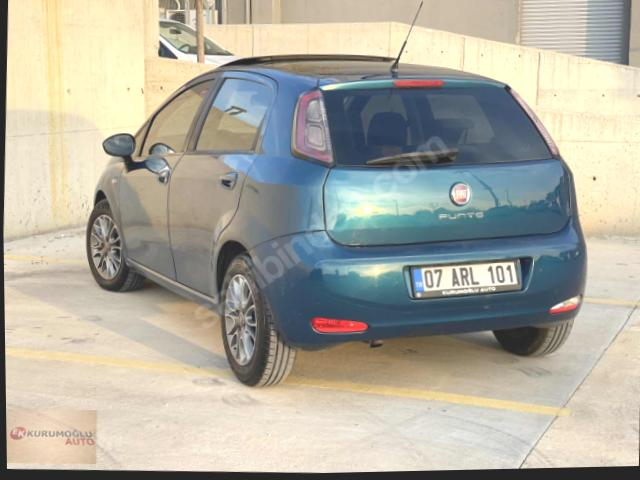plaka: (410, 261, 519, 298)
